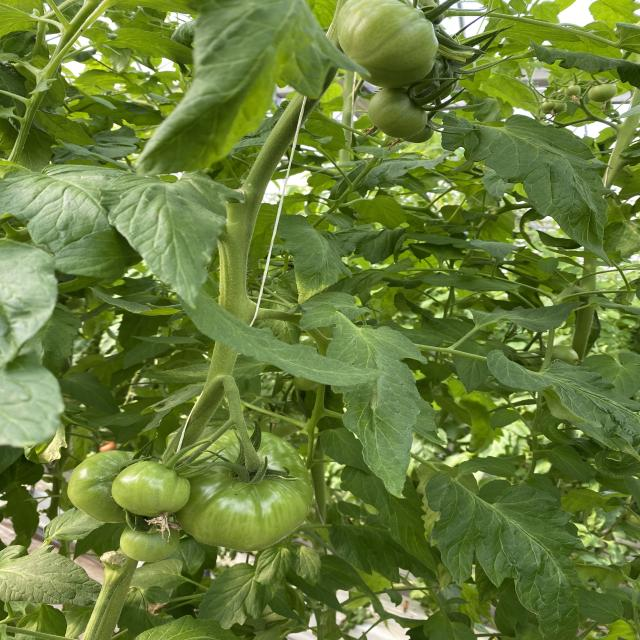yesil: (70, 400, 322, 592), (307, 0, 440, 89)
